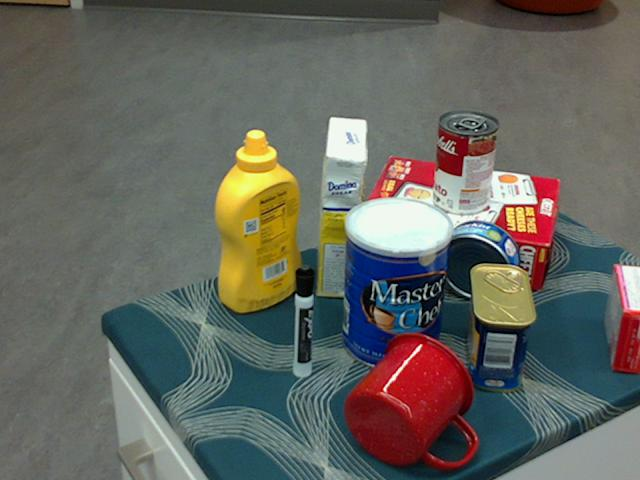cracker_box: (358, 158, 557, 287)
gelatin_box: (603, 265, 639, 374)
large_marker: (291, 264, 313, 379)
master_chef_can: (342, 197, 455, 372)
mug: (344, 332, 476, 470)
mustard_bottle: (213, 130, 302, 313)
potted_meat_can: (465, 264, 538, 392)
sugar_box: (316, 117, 367, 300)
tomato_soup_can: (433, 111, 499, 216)
tuna_fish_can: (438, 219, 521, 300)
